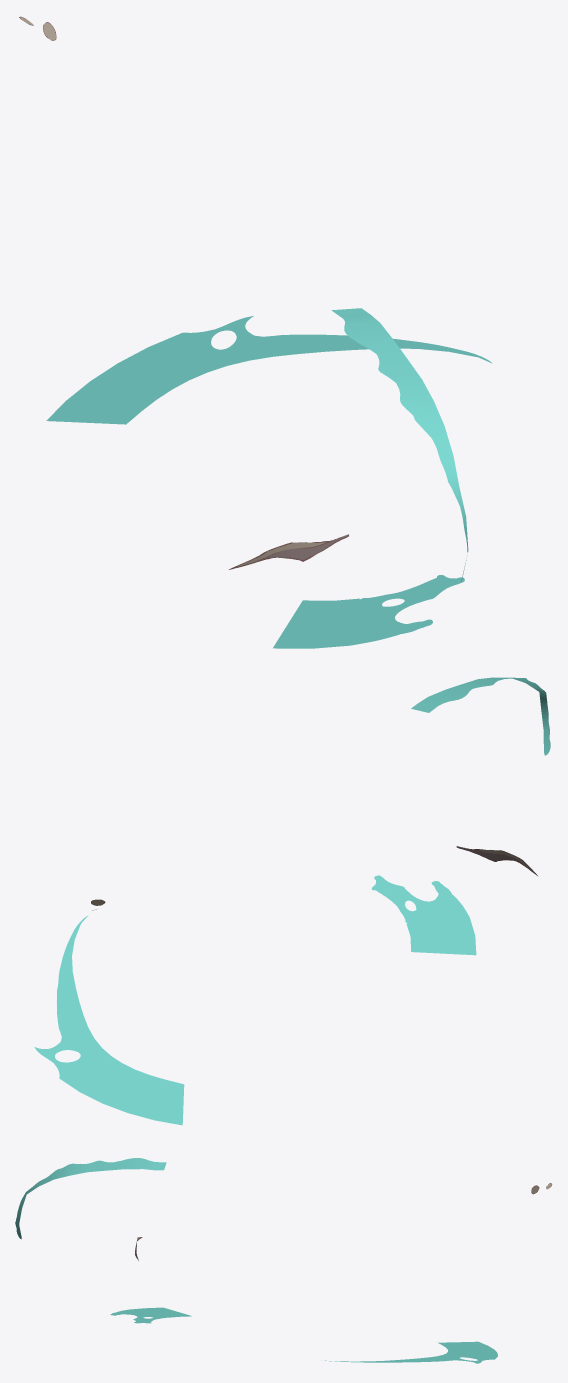
The model's file is Mesh_Home_RF_Gound_06_SM.fbx.
3 views of the same model, one above another, from view 1: azimuth 30°, elevation 25°; view 2: azimuth 150°, elevation 25°; view 3: azimuth 270°, elevation 25° (orthographic). The views are drawn at different scales.
Visible parts, largest first — view 1: Mesh_Home_RF_Gound_06; view 2: Mesh_Home_RF_Gound_06; view 3: Mesh_Home_RF_Gound_06.
Boxes of the visible parts, bbox=[...] form: Mesh_Home_RF_Gound_06: bbox=[19, 16, 492, 648]; Mesh_Home_RF_Gound_06: bbox=[34, 677, 550, 1125]; Mesh_Home_RF_Gound_06: bbox=[15, 1158, 552, 1363].
Bounding box in the file's own units: 4348 × 2872 × 8026.
1 material, 1 textured.
